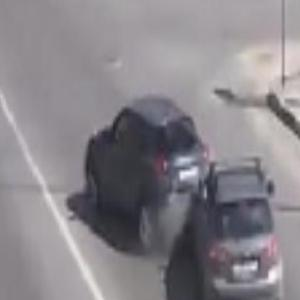negligible: (81, 89, 290, 300)
